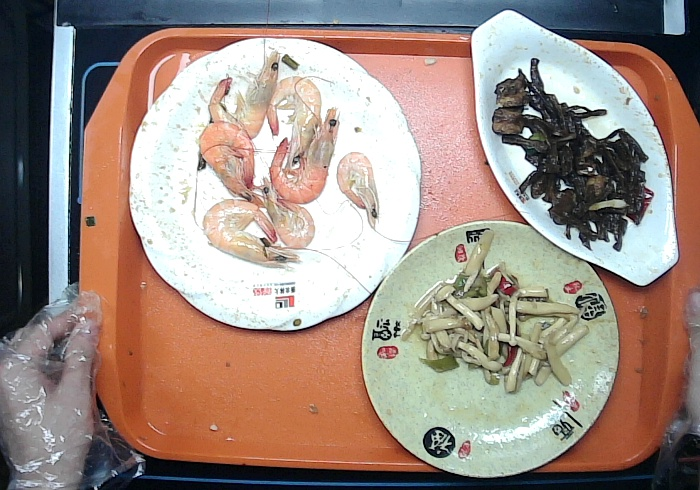NLDX-Bai_Zhe_Yuan_Pan: (128, 36, 423, 336)
NLDX-Fu_Zi_Yuan_Pan: (357, 219, 622, 481)
NLDX-Yu_Pan: (468, 9, 682, 290)
